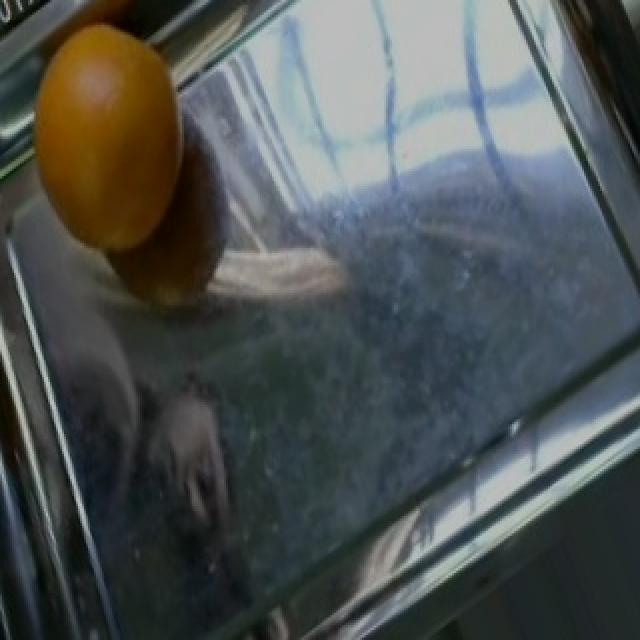Fruit: (4, 12, 206, 270)
